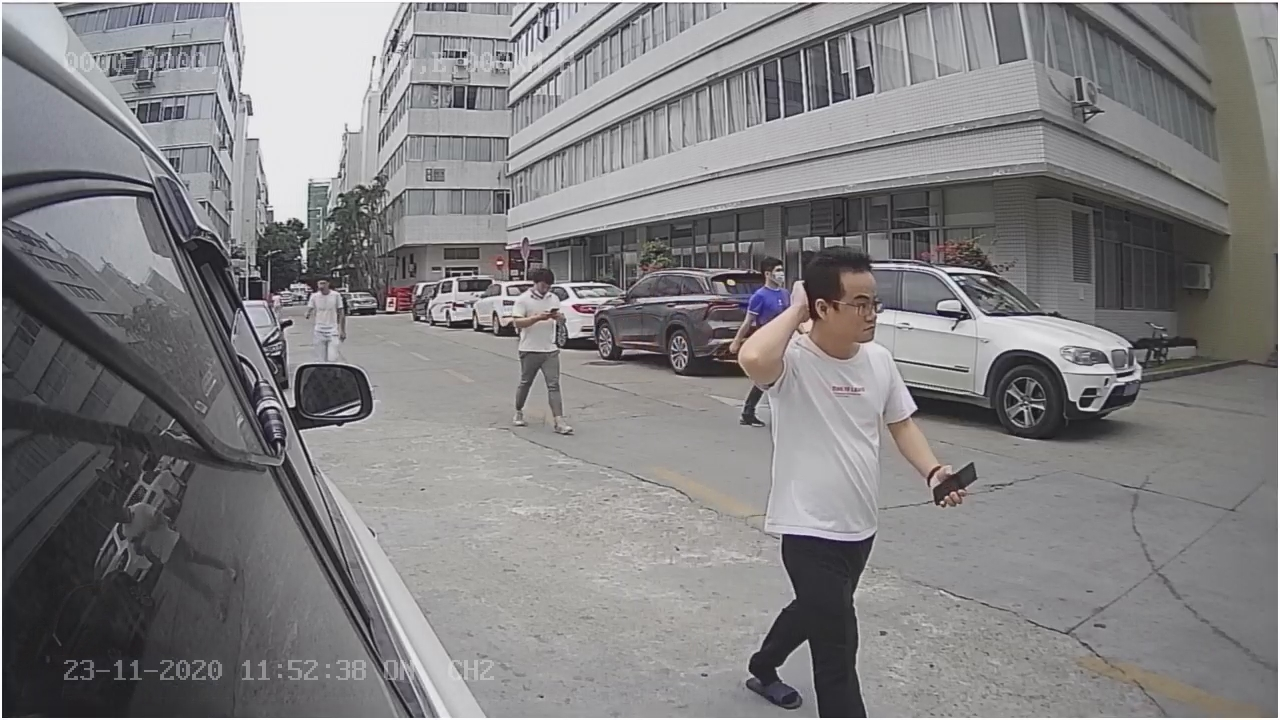person: (744, 245, 948, 715)
